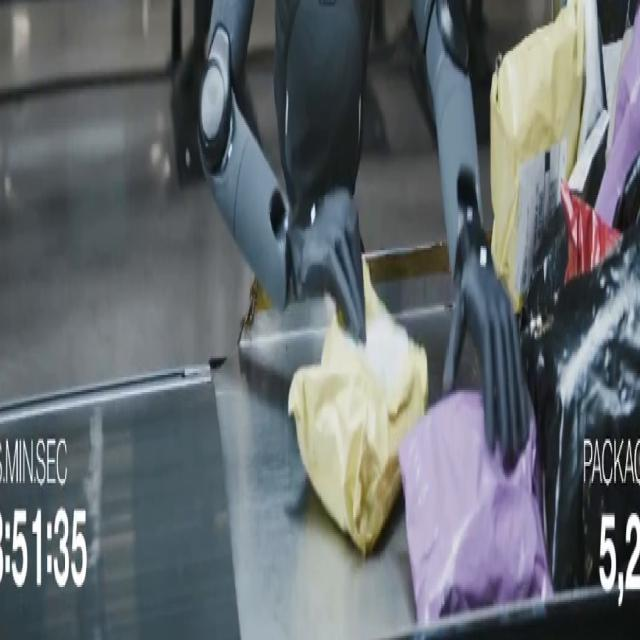package: (522, 227, 639, 591), (289, 261, 427, 555), (400, 393, 551, 623), (491, 0, 584, 311), (522, 183, 619, 328), (596, 20, 639, 226), (520, 202, 568, 330), (561, 183, 620, 283), (578, 0, 607, 156), (603, 28, 633, 156), (569, 111, 609, 205), (614, 153, 639, 233)
